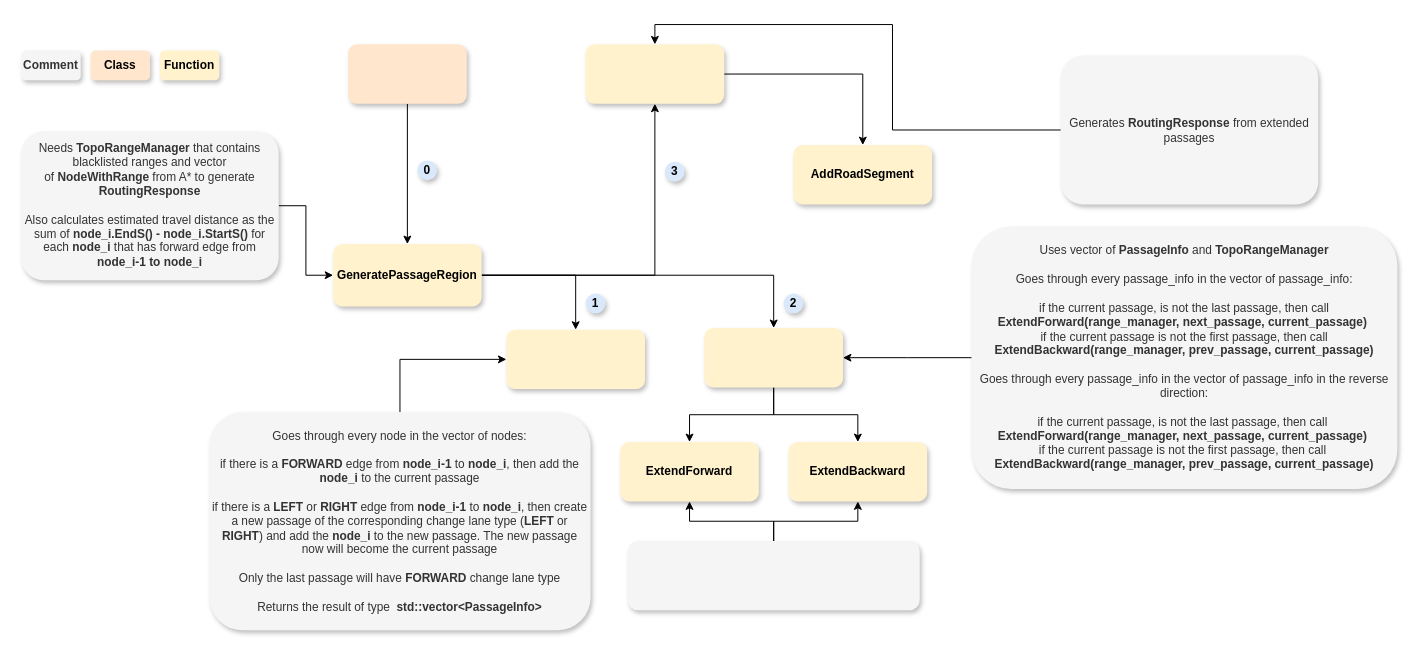
This 1420x654 diagram has some shape labels left out. Here are the shapes that lost their labels. From the top down, the centre of each, then its label:
point (408, 75): ResultGenerator
point (655, 75): CreateRoadSegments
point (576, 360): ExtractBasicPassages
point (774, 359): ExtendPassages
point (774, 577): Add additional ways to go from passage_i to passage_i+1
